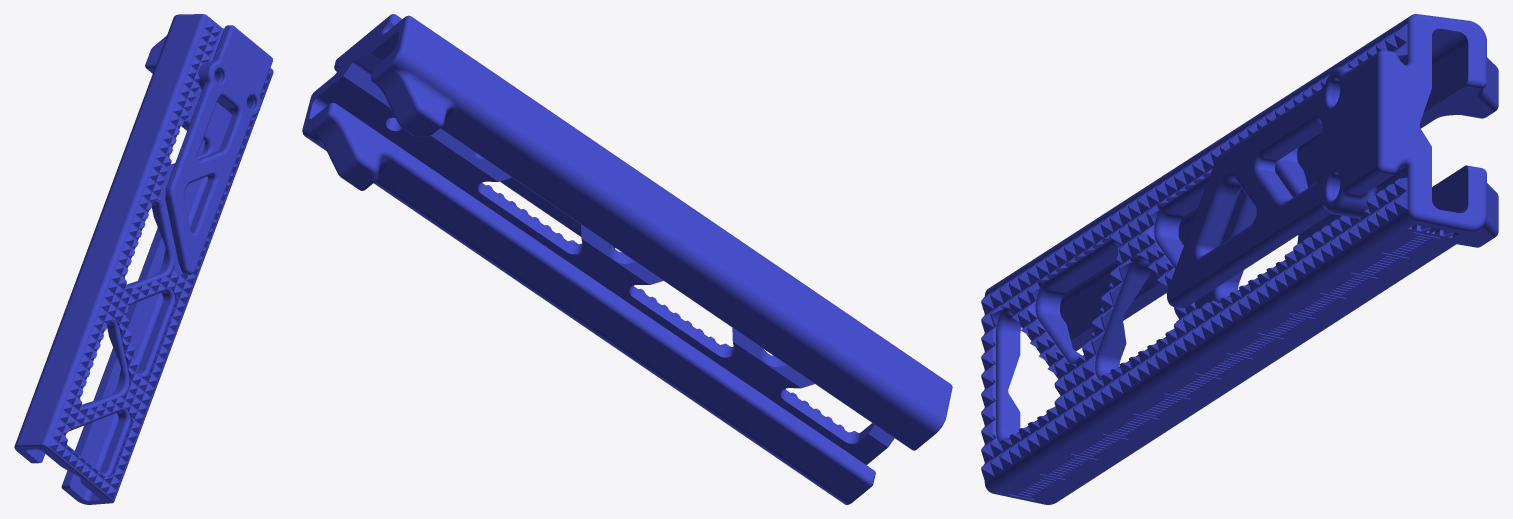
Rendered from h1hand.glb.
3 views of the same model, side by side, from view 1: azimuth 30°, elevation 25°; view 2: azimuth 150°, elevation 25°; view 3: azimuth 270°, elevation 25° (orthographic). The views are drawn at different scales.
Bounding box in the file's own units: 0.1122 × 0.1109 × 0.0759.
